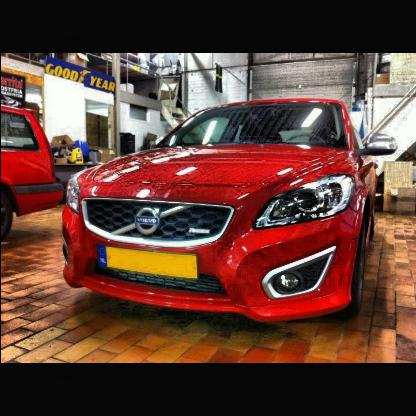Volvo C30 Hatchback 2012: (62, 101, 377, 325)
